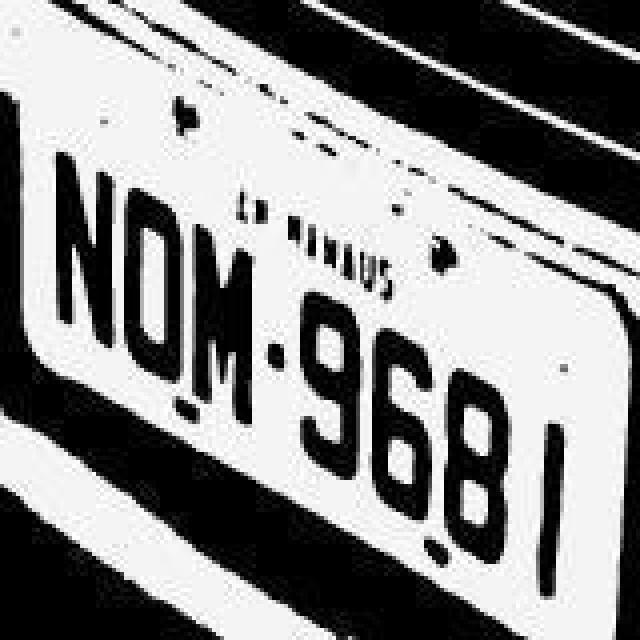1: (526, 410, 578, 614)
6: (366, 312, 442, 536)
8: (440, 348, 520, 580)
9: (294, 276, 370, 492)
M: (186, 206, 262, 434)
N: (52, 138, 124, 358)
O: (116, 174, 188, 394)
